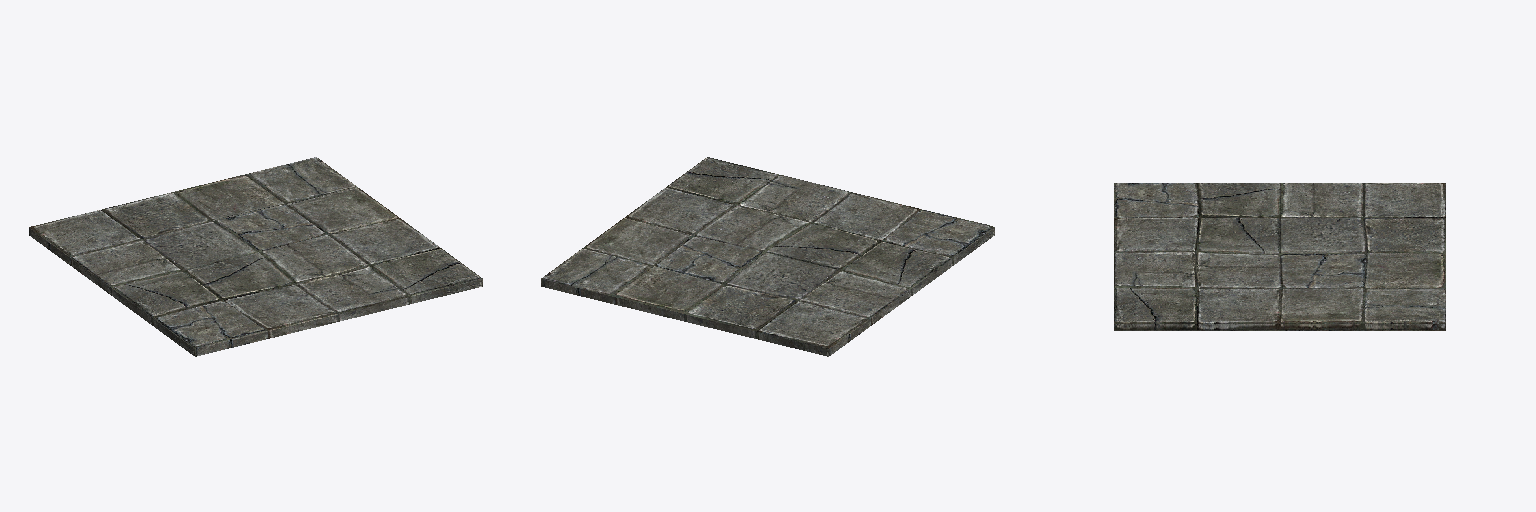
The picture shows the model from 3 angles: view 1: azimuth 30°, elevation 25°; view 2: azimuth 150°, elevation 25°; view 3: azimuth 270°, elevation 25°; orthographic projection.
Visible parts, largest first — view 1: Box001; view 2: Box001; view 3: Box001.
Part boxes in pixels (x1,y1,x2,y2): Box001: (29, 157, 482, 356); Box001: (541, 157, 994, 356); Box001: (1114, 183, 1445, 330).
Size of the model in its own units: 1.99 by 0.0631 by 1.99.
Materials: 1 (1 with a texture image).